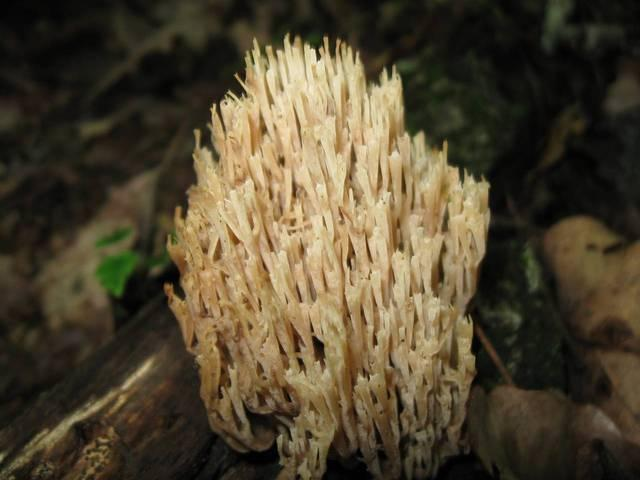Edible Mushroom: (162, 31, 492, 478)
